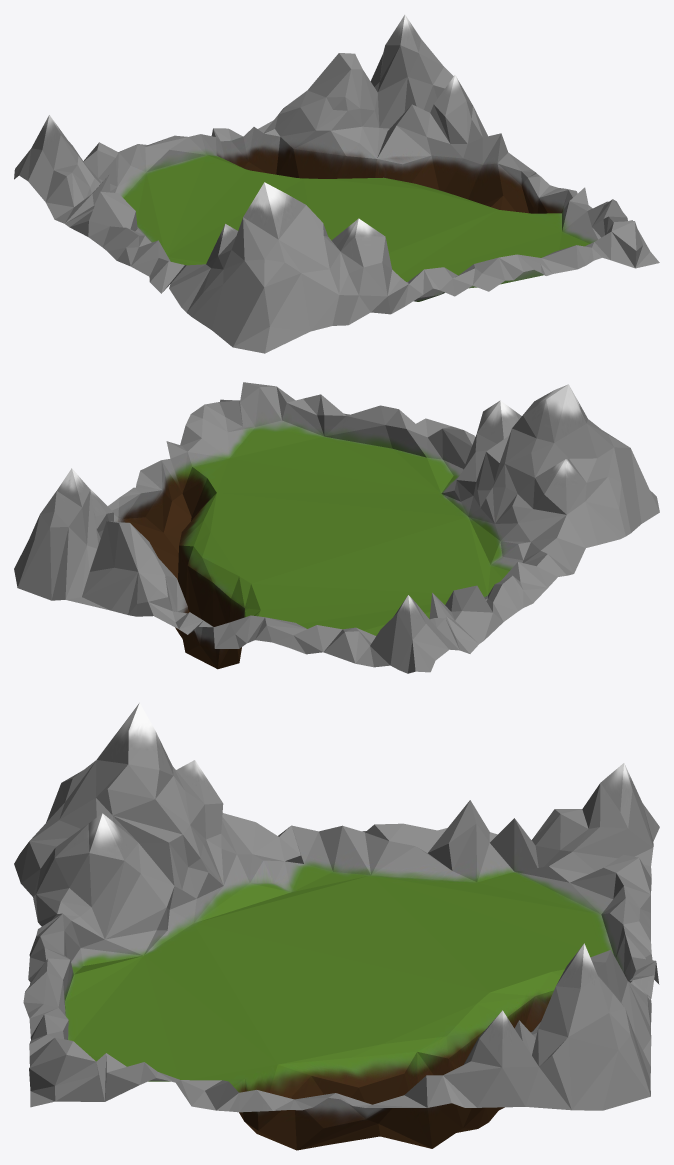
Rendered from landscape.glb.
The picture shows the model from 3 angles, top to bottom: view 1: azimuth 30°, elevation 25°; view 2: azimuth 150°, elevation 25°; view 3: azimuth 270°, elevation 25°; orthographic projection. The views are drawn at different scales.
Visible parts, largest first — view 1: landscape; view 2: landscape; view 3: landscape.
Boxes of the visible parts, x1=… form: landscape: x1=14, y1=15, x2=659, y2=353; landscape: x1=14, y1=382, x2=659, y2=673; landscape: x1=14, y1=702, x2=659, y2=1150.
Bounding box in the file's own units: 26.79 × 11.65 × 26.63.
1 material, 1 textured.
